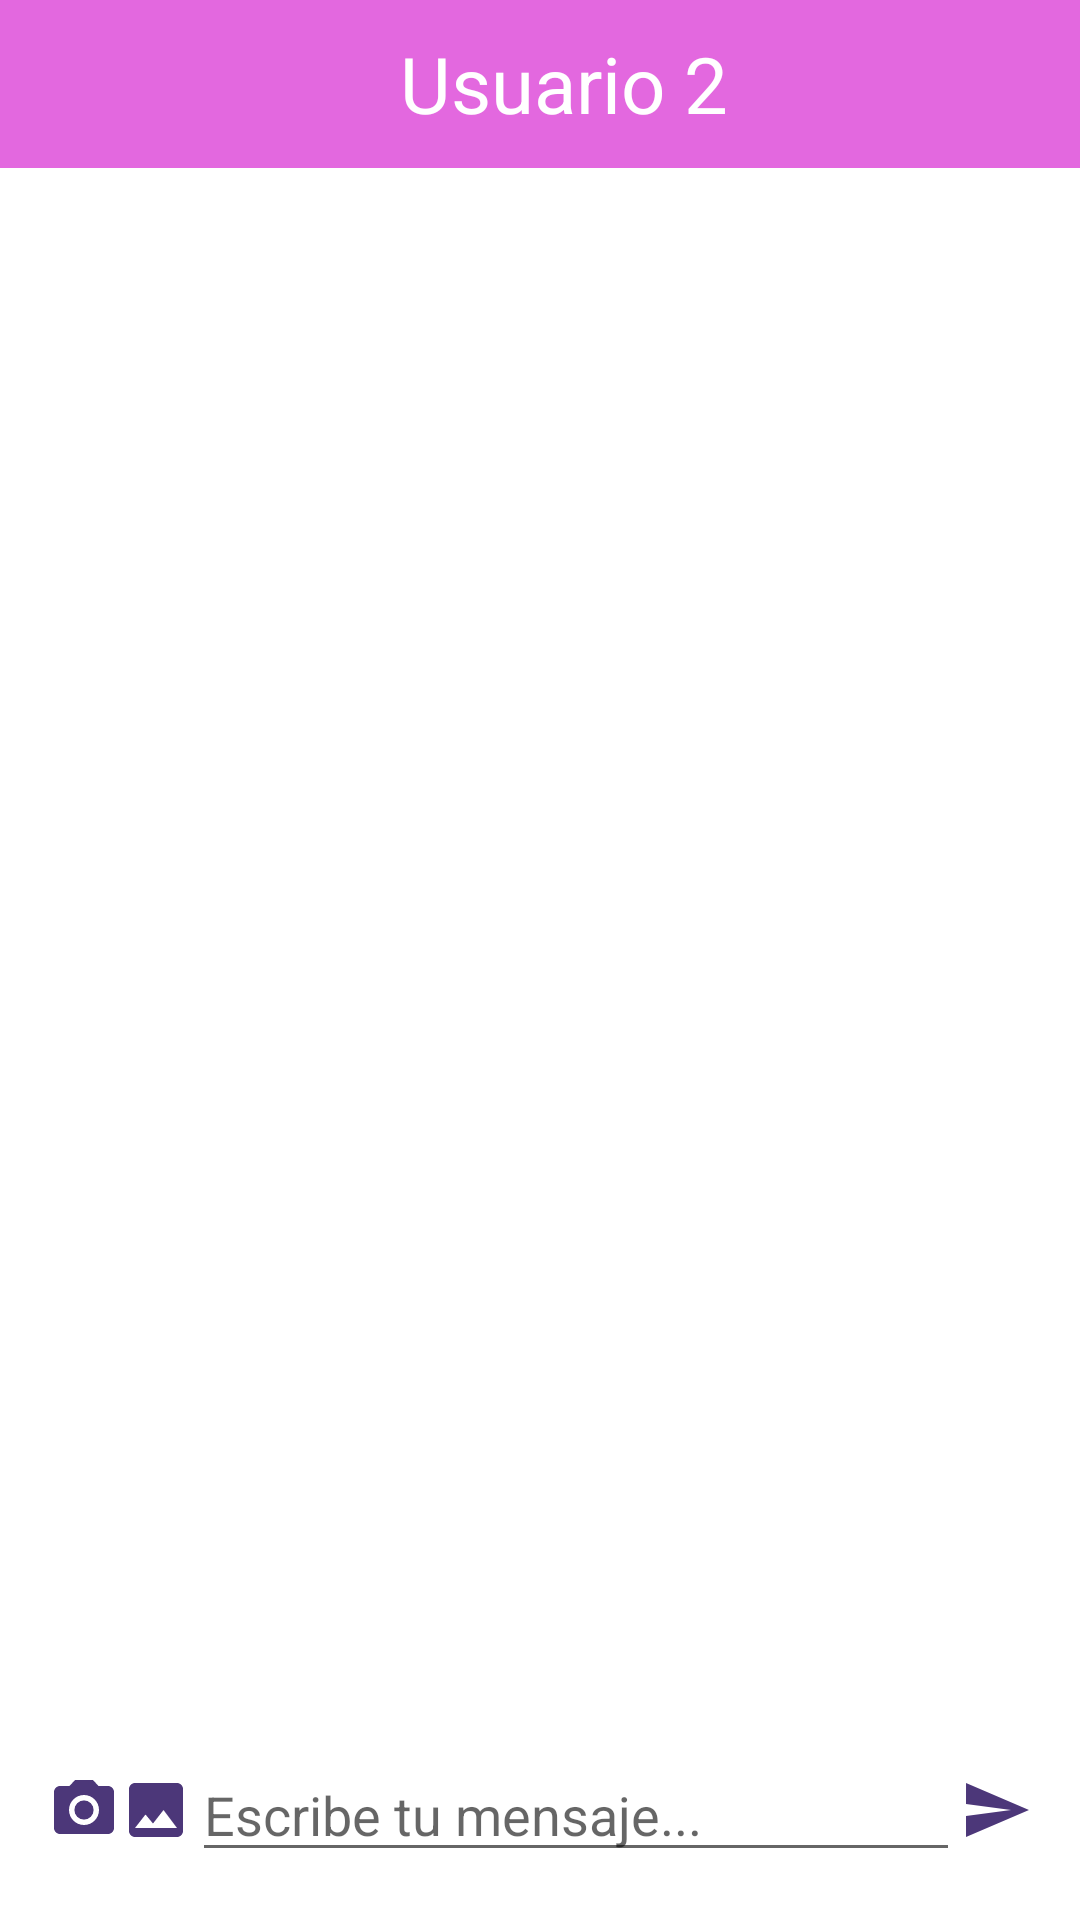

Named icons in this screenshot (1080 x 1920) and their centers, point (x, y):
camera: point (84, 1807)
send: point (997, 1810)
